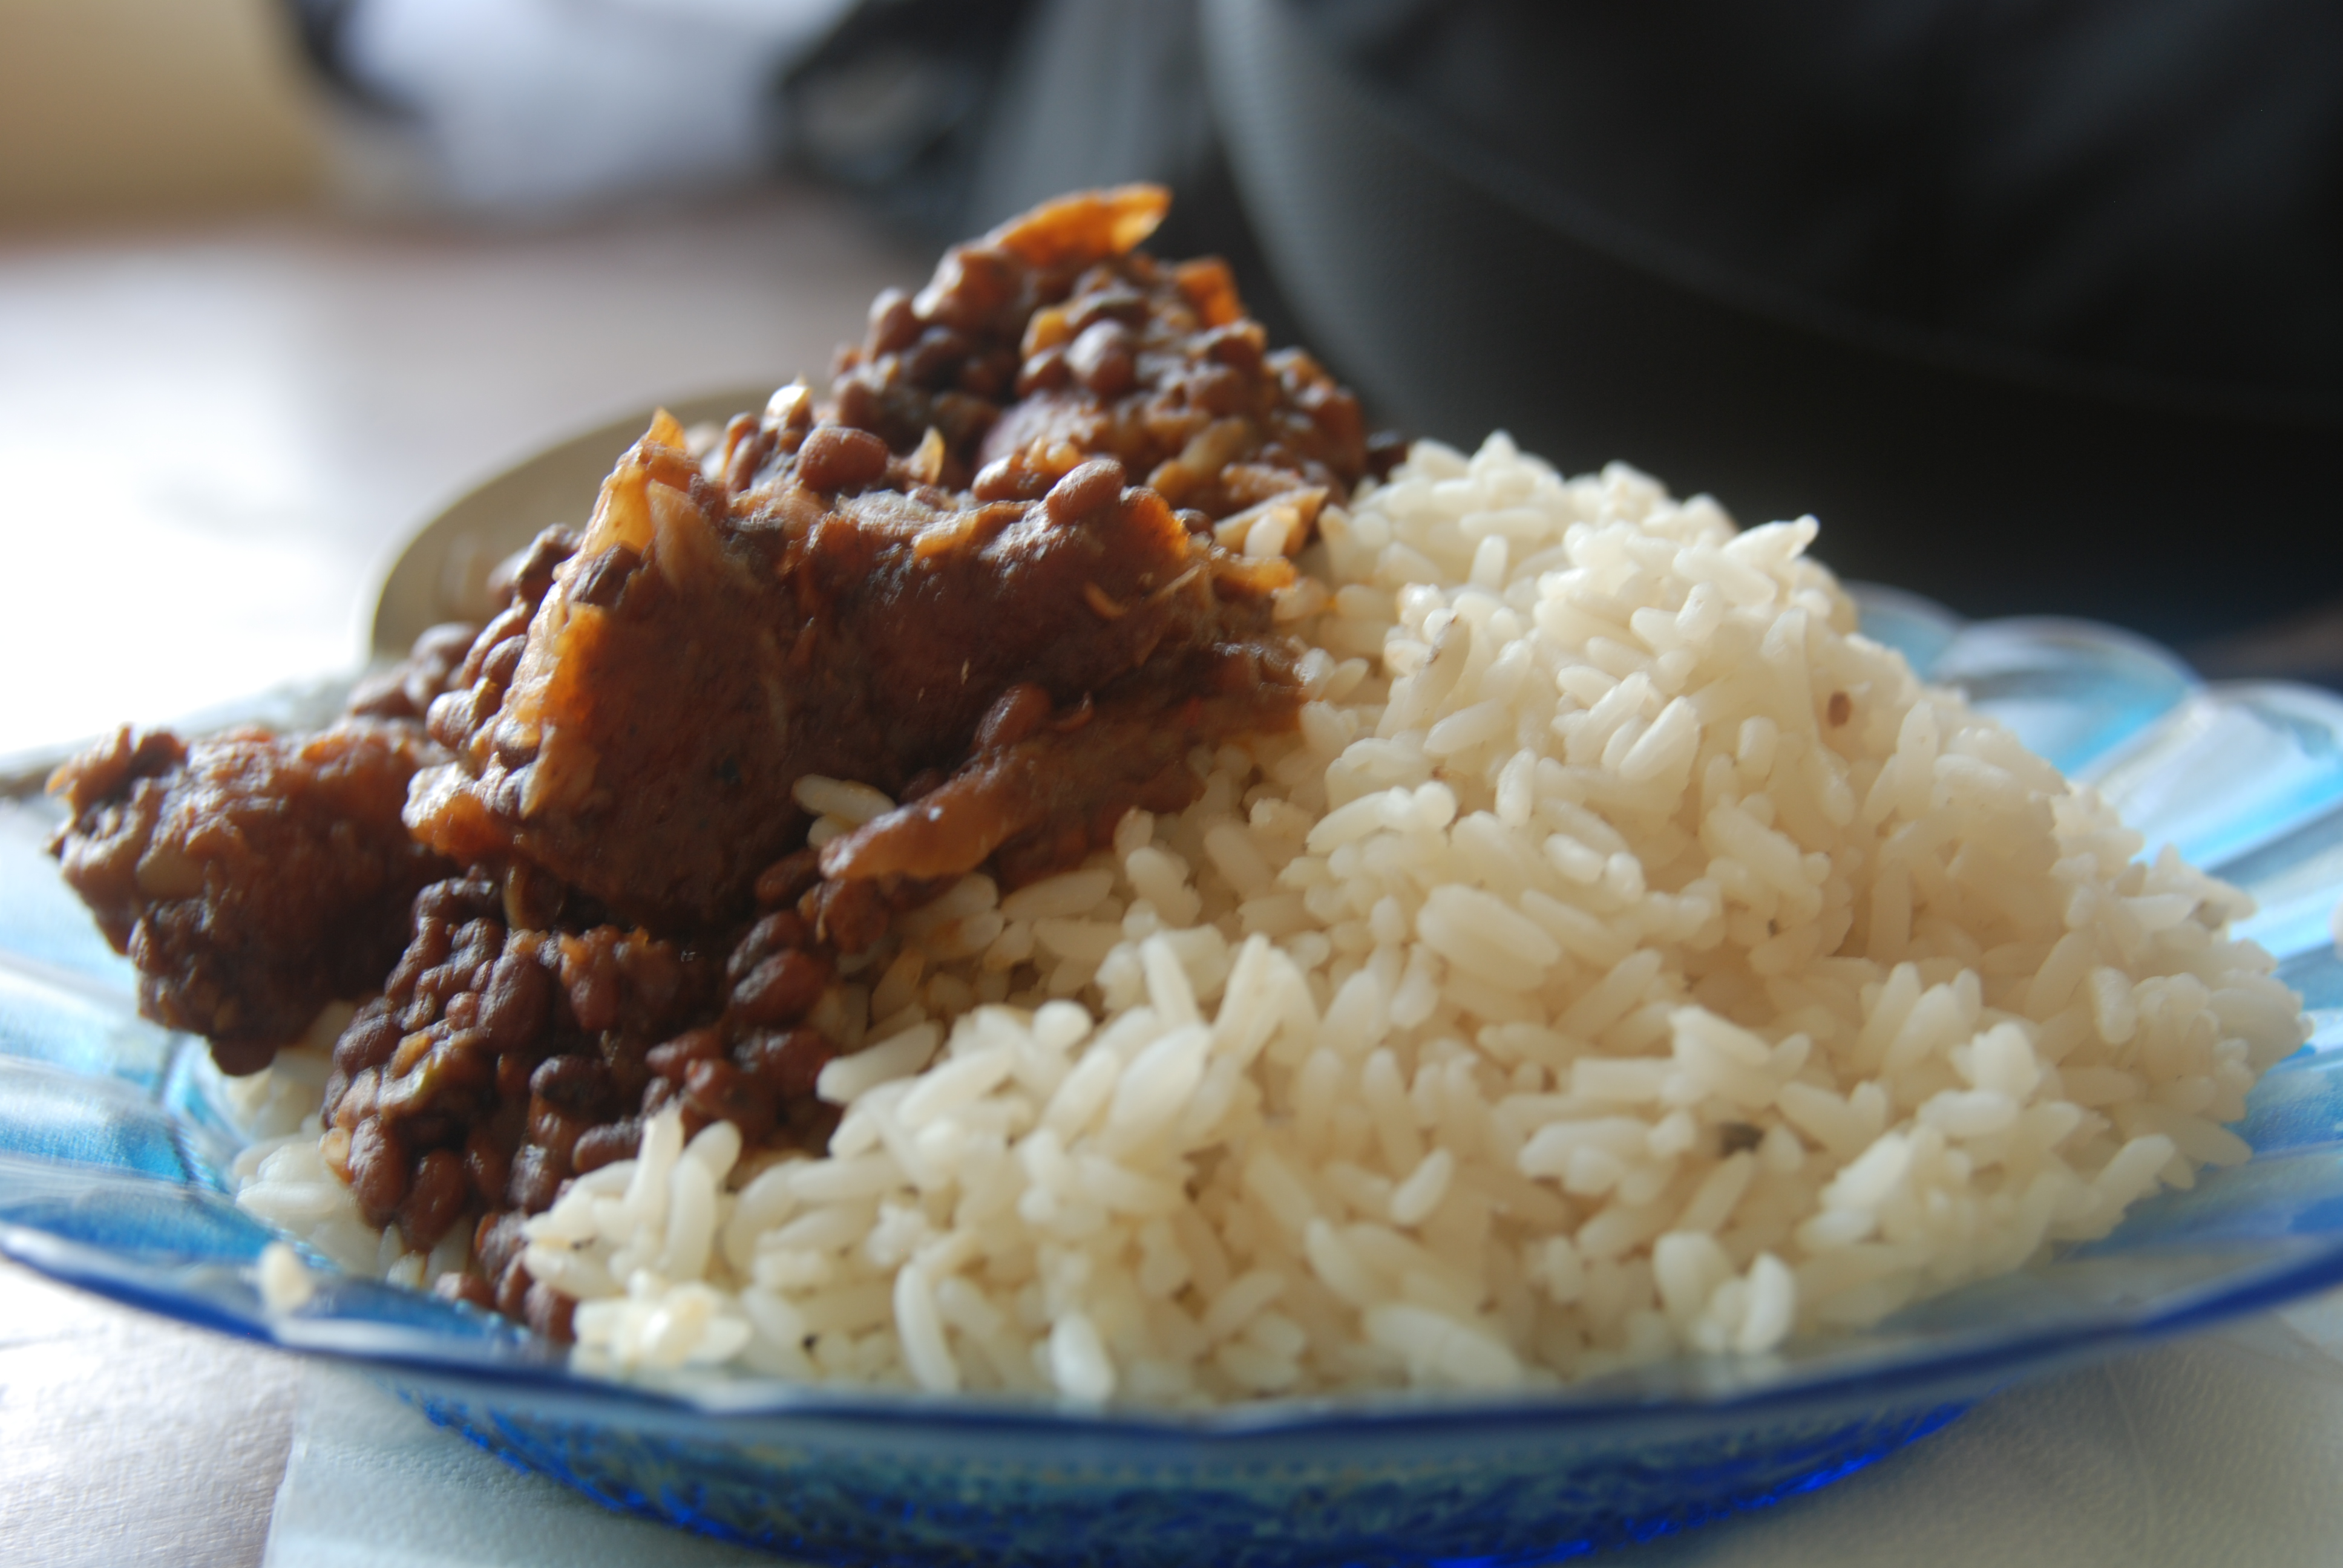plain rice: (1372, 590, 2012, 1256)
